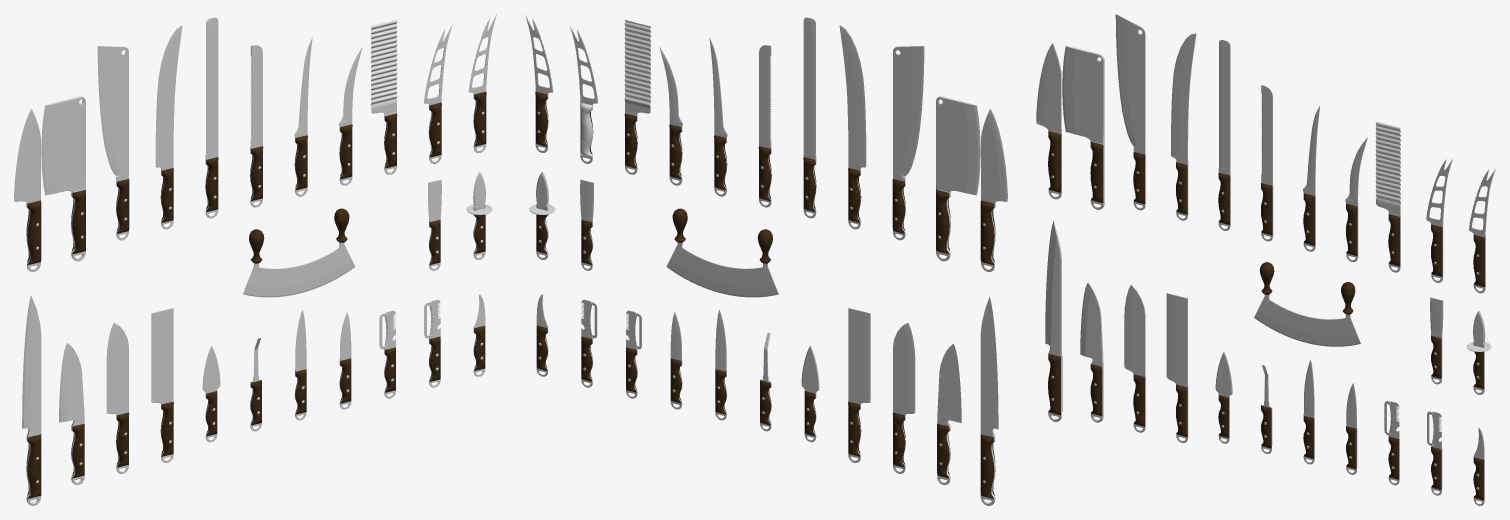
Rendered from 005__kitchen_tools__knife_set.glb.
3 views of the same model, side by side, from view 1: azimuth 30°, elevation 25°; view 2: azimuth 150°, elevation 25°; view 3: azimuth 330°, elevation 25° (orthographic). The views are drawn at different scales.
Parts seen in each view (by area): view 1: 005_Kitchen Tools_Knife Set_Cleaver_6, 005_Kitchen Tools_Knife Set_Coconut Knife_7, 005_Kitchen Tools_Knife Set_Mezzaluna Knife_14, 005_Kitchen Tools_Knife Set_Yanagiba Knife_24, 005_Kitchen Tools_Knife Set_Carving Knife_3, 005_Kitchen Tools_Knife Set_Crinkle Knife_8, 005_Kitchen Tools_Knife Set_Chef Knife_5, 005_Kitchen Tools_Knife Set_Nakiri Knife_15, 005_Kitchen Tools_Knife Set_Santoku Knife_18, 005_Kitchen Tools_Knife Set_Watermelon Knife_23, 005_Kitchen Tools_Knife Set_Deba Knife_10, 005_Kitchen Tools_Knife Set_Bread Knife_2 (+13 smaller); view 2: 005_Kitchen Tools_Knife Set_Cleaver_6, 005_Kitchen Tools_Knife Set_Coconut Knife_7, 005_Kitchen Tools_Knife Set_Mezzaluna Knife_14, 005_Kitchen Tools_Knife Set_Yanagiba Knife_24, 005_Kitchen Tools_Knife Set_Carving Knife_3, 005_Kitchen Tools_Knife Set_Crinkle Knife_8, 005_Kitchen Tools_Knife Set_Chef Knife_5, 005_Kitchen Tools_Knife Set_Nakiri Knife_15, 005_Kitchen Tools_Knife Set_Santoku Knife_18, 005_Kitchen Tools_Knife Set_Watermelon Knife_23, 005_Kitchen Tools_Knife Set_Deba Knife_10, 005_Kitchen Tools_Knife Set_Bread Knife_2 (+13 smaller); view 3: 005_Kitchen Tools_Knife Set_Cleaver_6, 005_Kitchen Tools_Knife Set_Coconut Knife_7, 005_Kitchen Tools_Knife Set_Mezzaluna Knife_14, 005_Kitchen Tools_Knife Set_Crinkle Knife_8, 005_Kitchen Tools_Knife Set_Carving Knife_3, 005_Kitchen Tools_Knife Set_Yanagiba Knife_24, 005_Kitchen Tools_Knife Set_Chef Knife_5, 005_Kitchen Tools_Knife Set_Nakiri Knife_15, 005_Kitchen Tools_Knife Set_Santoku Knife_18, 005_Kitchen Tools_Knife Set_Watermelon Knife_23, 005_Kitchen Tools_Knife Set_Deba Knife_10, 005_Kitchen Tools_Knife Set_Bread Knife_2 (+13 smaller).
Boxes of the visible parts, <box> form: 005_Kitchen Tools_Knife Set_Cleaver_6: <box>41,96,85,261</box>; 005_Kitchen Tools_Knife Set_Coconut Knife_7: <box>97,46,129,240</box>; 005_Kitchen Tools_Knife Set_Mezzaluna Knife_14: <box>243,208,355,297</box>; 005_Kitchen Tools_Knife Set_Yanagiba Knife_24: <box>22,296,41,505</box>; 005_Kitchen Tools_Knife Set_Carving Knife_3: <box>155,25,182,229</box>; 005_Kitchen Tools_Knife Set_Crinkle Knife_8: <box>370,19,397,174</box>; 005_Kitchen Tools_Knife Set_Chef Knife_5: <box>14,109,41,271</box>; 005_Kitchen Tools_Knife Set_Nakiri Knife_15: <box>151,307,173,462</box>; 005_Kitchen Tools_Knife Set_Santoku Knife_18: <box>106,323,129,473</box>; 005_Kitchen Tools_Knife Set_Watermelon Knife_23: <box>205,17,218,218</box>; 005_Kitchen Tools_Knife Set_Deba Knife_10: <box>59,342,84,484</box>; 005_Kitchen Tools_Knife Set_Bread Knife_2: <box>250,45,263,207</box>; 005_Kitchen Tools_Knife Set_Cleaver_6: <box>936,96,980,261</box>; 005_Kitchen Tools_Knife Set_Coconut Knife_7: <box>892,46,924,240</box>; 005_Kitchen Tools_Knife Set_Mezzaluna Knife_14: <box>666,208,778,297</box>; 005_Kitchen Tools_Knife Set_Yanagiba Knife_24: <box>980,297,998,505</box>; 005_Kitchen Tools_Knife Set_Carving Knife_3: <box>839,25,866,229</box>; 005_Kitchen Tools_Knife Set_Crinkle Knife_8: <box>624,20,650,174</box>; 005_Kitchen Tools_Knife Set_Chef Knife_5: <box>980,109,1007,271</box>; 005_Kitchen Tools_Knife Set_Nakiri Knife_15: <box>848,307,870,462</box>; 005_Kitchen Tools_Knife Set_Santoku Knife_18: <box>892,323,915,473</box>; 005_Kitchen Tools_Knife Set_Watermelon Knife_23: <box>803,17,816,218</box>; 005_Kitchen Tools_Knife Set_Deba Knife_10: <box>937,343,961,484</box>; 005_Kitchen Tools_Knife Set_Bread Knife_2: <box>758,45,771,207</box>; 005_Kitchen Tools_Knife Set_Cleaver_6: <box>1062,46,1104,209</box>; 005_Kitchen Tools_Knife Set_Coconut Knife_7: <box>1115,14,1145,210</box>; 005_Kitchen Tools_Knife Set_Mezzaluna Knife_14: <box>1254,262,1360,346</box>; 005_Kitchen Tools_Knife Set_Crinkle Knife_8: <box>1375,122,1400,272</box>; 005_Kitchen Tools_Knife Set_Carving Knife_3: <box>1171,33,1196,220</box>; 005_Kitchen Tools_Knife Set_Yanagiba Knife_24: <box>1045,221,1062,421</box>; 005_Kitchen Tools_Knife Set_Chef Knife_5: <box>1036,43,1061,199</box>; 005_Kitchen Tools_Knife Set_Nakiri Knife_15: <box>1166,293,1188,442</box>; 005_Kitchen Tools_Knife Set_Santoku Knife_18: <box>1124,285,1145,432</box>; 005_Kitchen Tools_Knife Set_Watermelon Knife_23: <box>1218,40,1230,230</box>; 005_Kitchen Tools_Knife Set_Deba Knife_10: <box>1080,283,1103,422</box>; 005_Kitchen Tools_Knife Set_Bread Knife_2: <box>1261,85,1273,241</box>.
Size of the model in its own units: 1.08 by 0.9502 by 0.05.
1 material, 1 textured.
